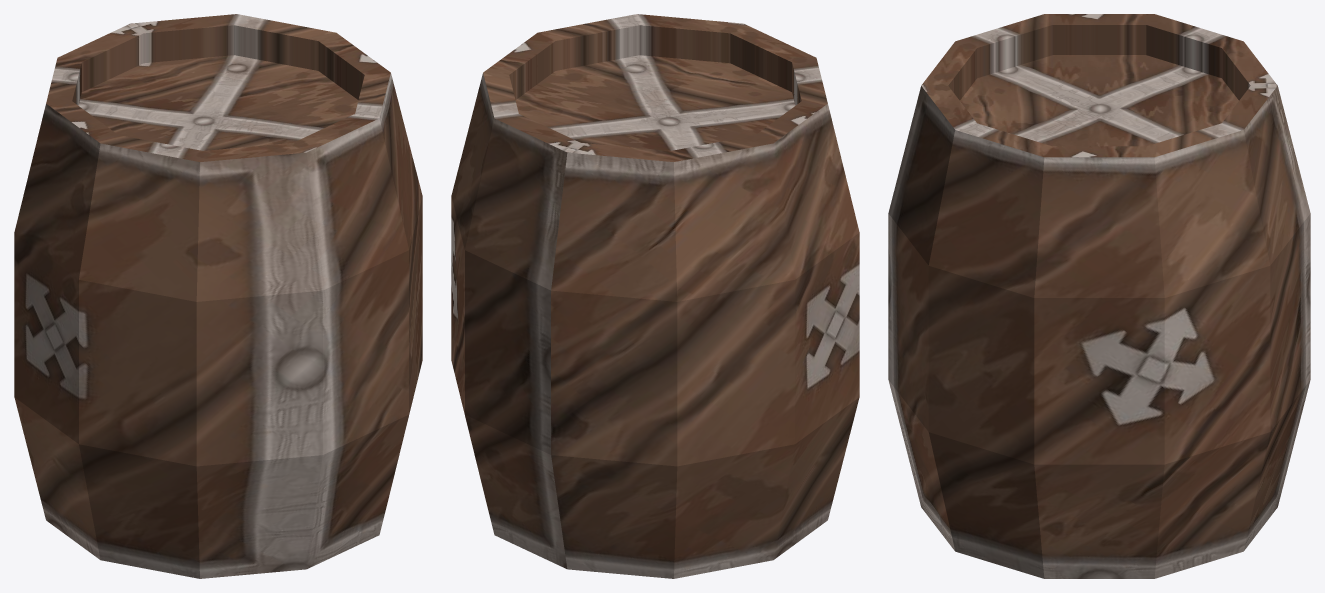
Rendered from Varil.fbx.
3 views of the same model, side by side, from view 1: azimuth 30°, elevation 25°; view 2: azimuth 150°, elevation 25°; view 3: azimuth 270°, elevation 25° (orthographic).
Parts seen in each view (by area): view 1: Cylinder; view 2: Cylinder; view 3: Cylinder.
Part boxes in pixels (x1=…): Cylinder: x1=14, y1=14, x2=422, y2=578; Cylinder: x1=451, y1=14, x2=859, y2=578; Cylinder: x1=888, y1=14, x2=1310, y2=578.
Bounding box in the file's own units: 225 × 261 × 237.
